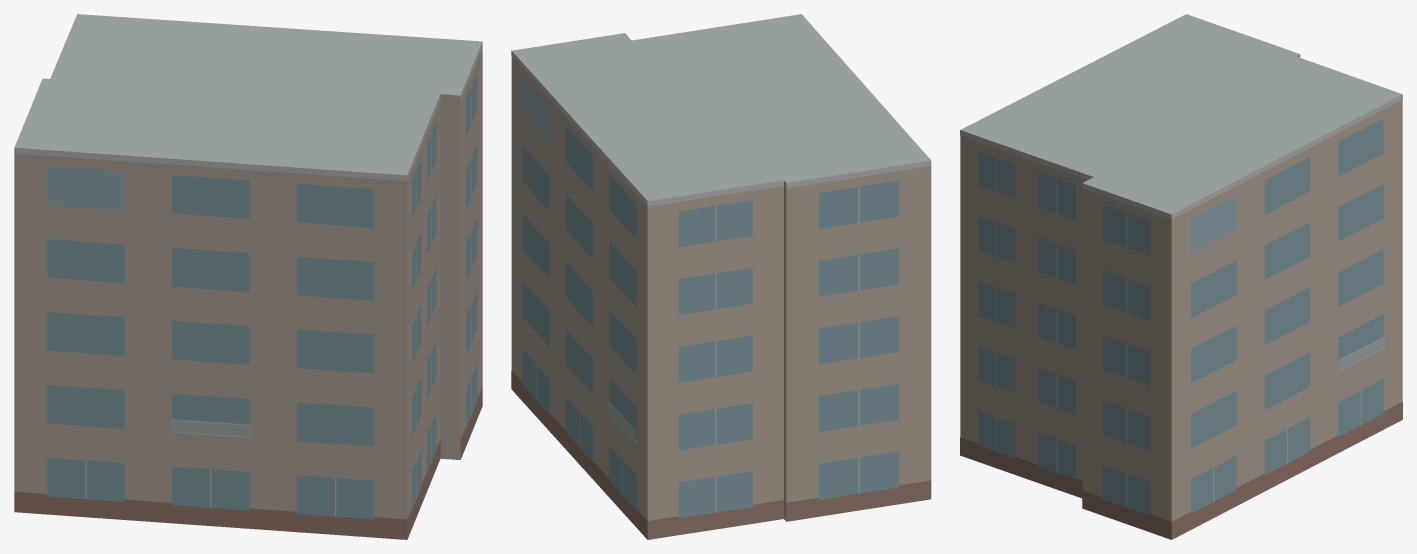
The model's file is survey-upis-32756696.glb.
The picture shows the model from 3 angles, left to right: view 1: azimuth 30°, elevation 25°; view 2: azimuth 150°, elevation 25°; view 3: azimuth 270°, elevation 25°; orthographic projection. The views are drawn at different scales.
Parts seen in each view (by area): view 1: survey-upis-32756696.tmp; view 2: survey-upis-32756696.tmp; view 3: survey-upis-32756696.tmp.
Boxes of the visible parts, x1,y1,x2,y2 form: survey-upis-32756696.tmp: [14, 14, 482, 539]; survey-upis-32756696.tmp: [511, 14, 931, 539]; survey-upis-32756696.tmp: [960, 14, 1402, 539].
Bounding box in the file's own units: 20.15 × 15.25 × 18.81.
